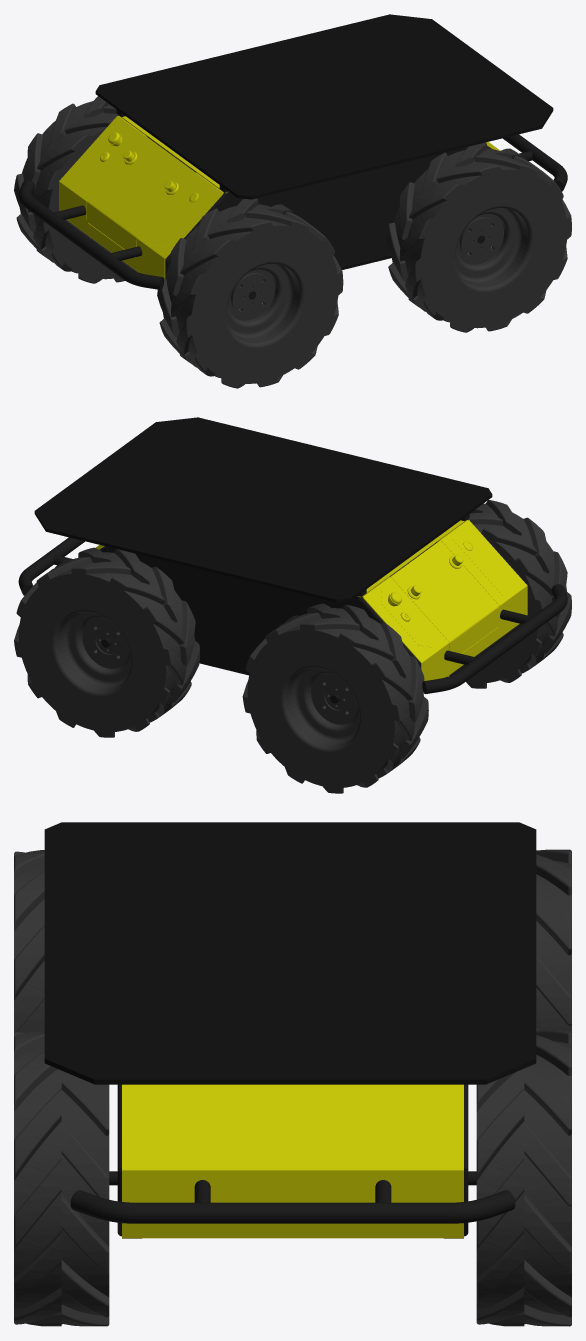
The model's file is robot.glb.
The picture shows the model from 3 angles, top to bottom: view 1: azimuth 30°, elevation 25°; view 2: azimuth 150°, elevation 25°; view 3: azimuth 270°, elevation 25°; orthographic projection. The views are drawn at different scales.
Parts seen in each view (by area): view 1: visual_16, visual_6, visual_10, visual_11, visual_2, visual_8, visual_13, visual_12; view 2: visual_16, visual_8, visual_4, visual_11, visual_2, visual_10, visual_13, visual_12; view 3: visual_16, visual_11, visual_4, visual_6, visual_12, visual_8, visual_10, visual_2.
Part boxes in pixels (x1,y1,x2,y2): visual_16: [95, 14, 553, 199]; visual_6: [386, 142, 571, 332]; visual_10: [157, 198, 343, 388]; visual_11: [59, 115, 500, 278]; visual_2: [118, 115, 492, 299]; visual_8: [14, 96, 138, 283]; visual_13: [18, 180, 164, 289]; visual_12: [503, 134, 567, 191]; visual_16: [34, 417, 492, 602]; visual_8: [242, 603, 428, 793]; visual_4: [14, 547, 199, 737]; visual_11: [95, 520, 527, 693]; visual_2: [99, 519, 468, 703]; visual_10: [449, 500, 571, 688]; visual_13: [422, 584, 567, 694]; visual_12: [18, 537, 84, 595]; visual_16: [44, 822, 536, 1084]; visual_11: [122, 1084, 463, 1238]; visual_4: [476, 1030, 571, 1326]; visual_6: [14, 1030, 109, 1326]; visual_12: [70, 1180, 515, 1223]; visual_8: [536, 849, 571, 1031]; visual_10: [14, 850, 44, 1033]; visual_2: [109, 1084, 476, 1238].
Size of the model in its own units: 0.9854 by 0.3964 by 0.6693.
